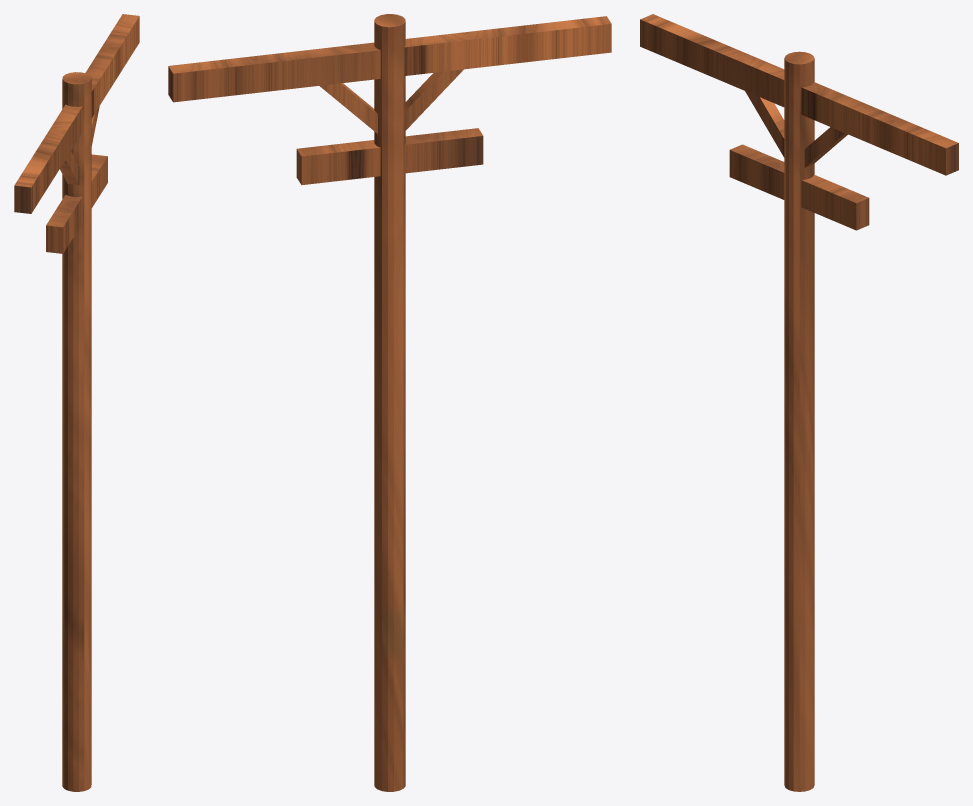
The model's file is eletric_(pole)_wood_(light)_(table)_(dirty)_0_lev3.glb.
3 renders of one model, left to right at view 1: azimuth 30°, elevation 25°; view 2: azimuth 150°, elevation 25°; view 3: azimuth 270°, elevation 25°, orthographic. The views are drawn at different scales.
Visible parts, largest first — view 1: eletric_(pole)_wood_(light)_(table)_(dirty)_0_lev3; view 2: eletric_(pole)_wood_(light)_(table)_(dirty)_0_lev3; view 3: eletric_(pole)_wood_(light)_(table)_(dirty)_0_lev3.
Boxes of the visible parts, left/top/right/bottom form: eletric_(pole)_wood_(light)_(table)_(dirty)_0_lev3: left=14, top=14, right=139, bottom=791; eletric_(pole)_wood_(light)_(table)_(dirty)_0_lev3: left=168, top=14, right=611, bottom=791; eletric_(pole)_wood_(light)_(table)_(dirty)_0_lev3: left=640, top=14, right=958, bottom=791.
Size of the model in its own units: 1.49 by 3.75 by 1.49.
1 material, 1 textured.
